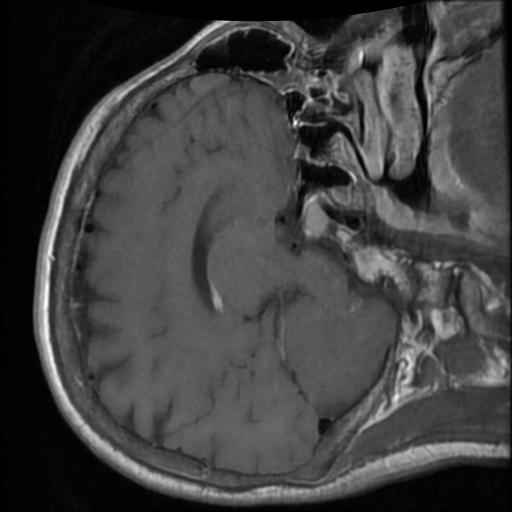pituitary tumour: (299, 198, 327, 236)
